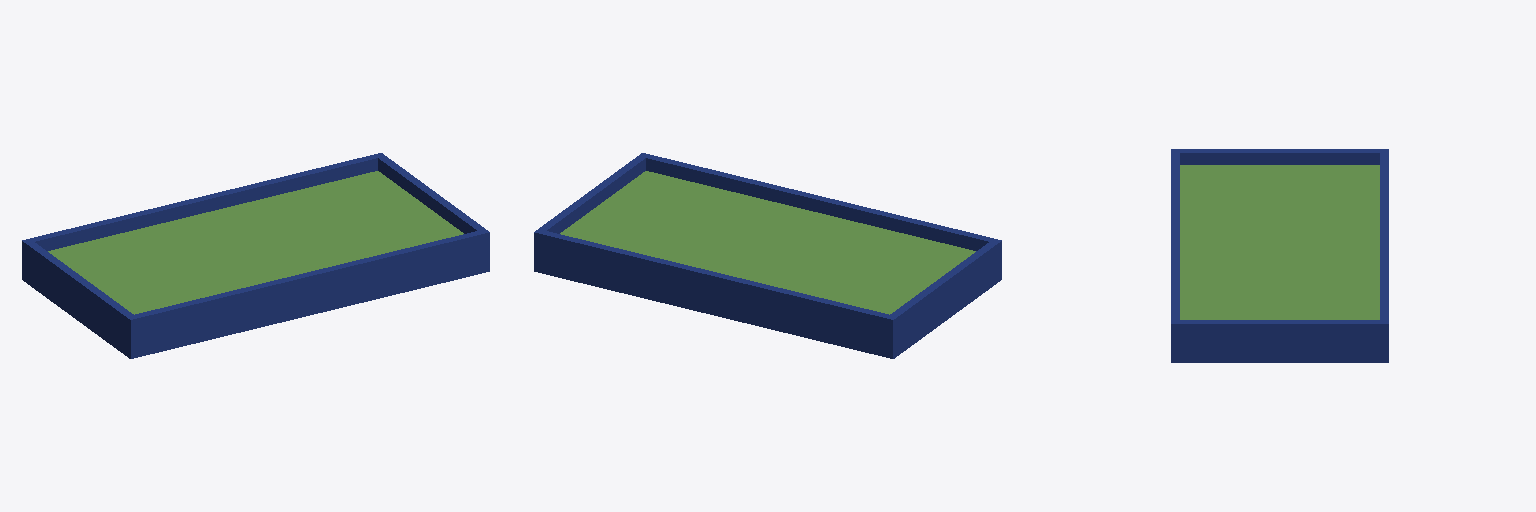
File: table2.obj
3 views of the same model, side by side, from view 1: azimuth 30°, elevation 25°; view 2: azimuth 150°, elevation 25°; view 3: azimuth 270°, elevation 25° (orthographic).
Parts seen in each view (by area): view 1: Table; view 2: Table; view 3: Table.
Boxes of the visible parts, x1,y1,x2,y2 form: Table: [22, 153, 489, 358]; Table: [534, 153, 1001, 358]; Table: [1171, 149, 1388, 362].
Bounding box in the file's own units: 8.95 × 0.9326 × 4.69.